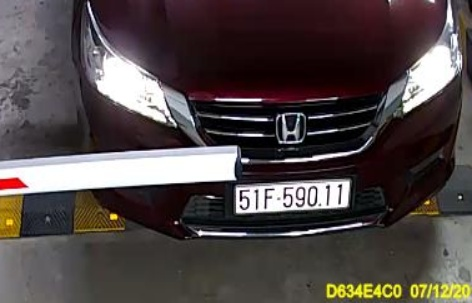plate: (222, 176, 358, 216)
